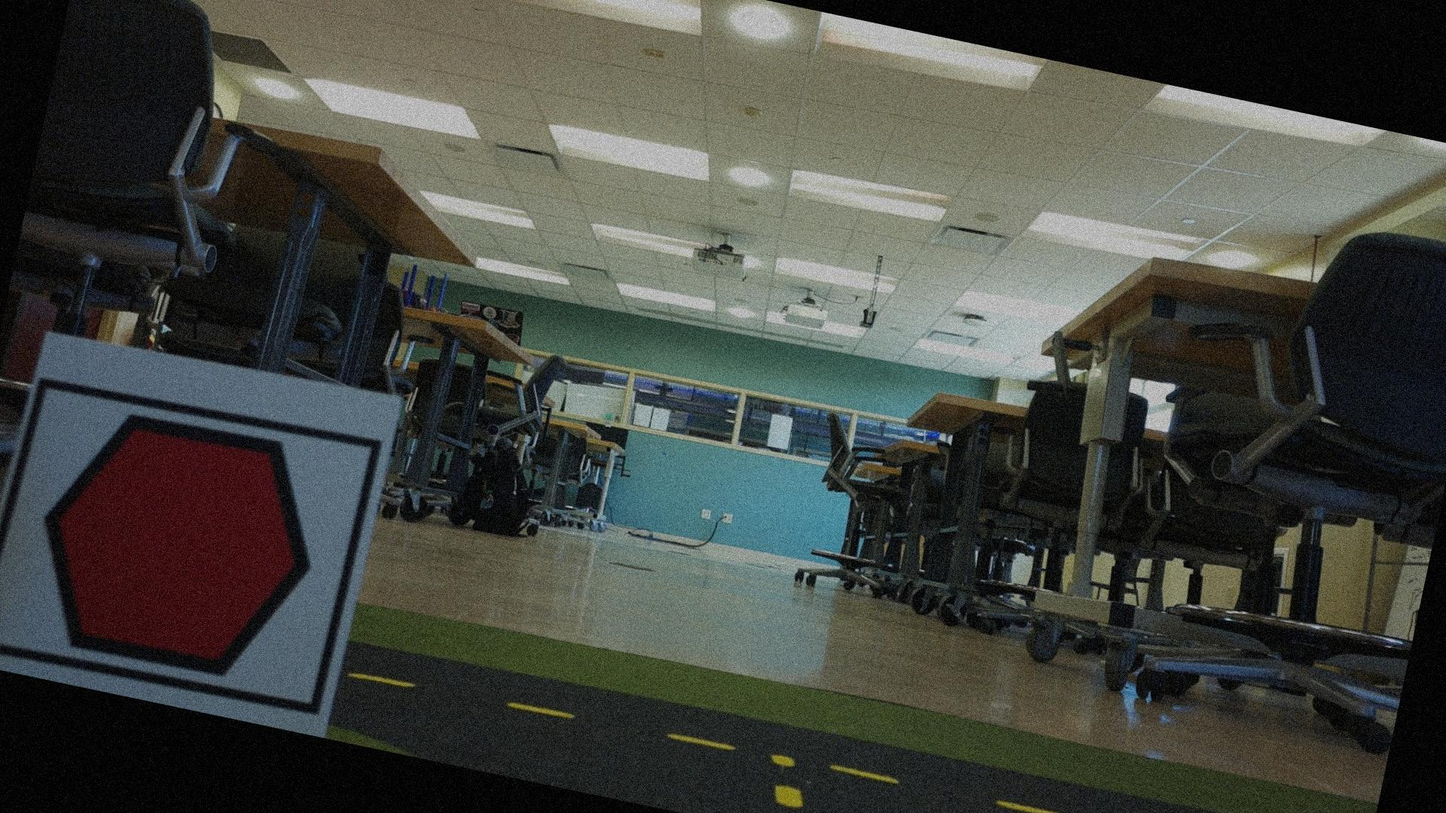stop: (0, 386, 352, 708)
yellowline: (352, 665, 1358, 812), (761, 749, 815, 812)
